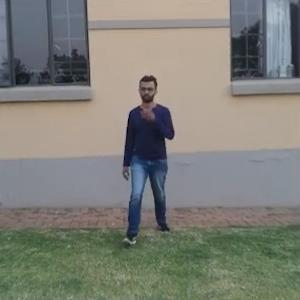follow: (123, 73, 174, 236)
